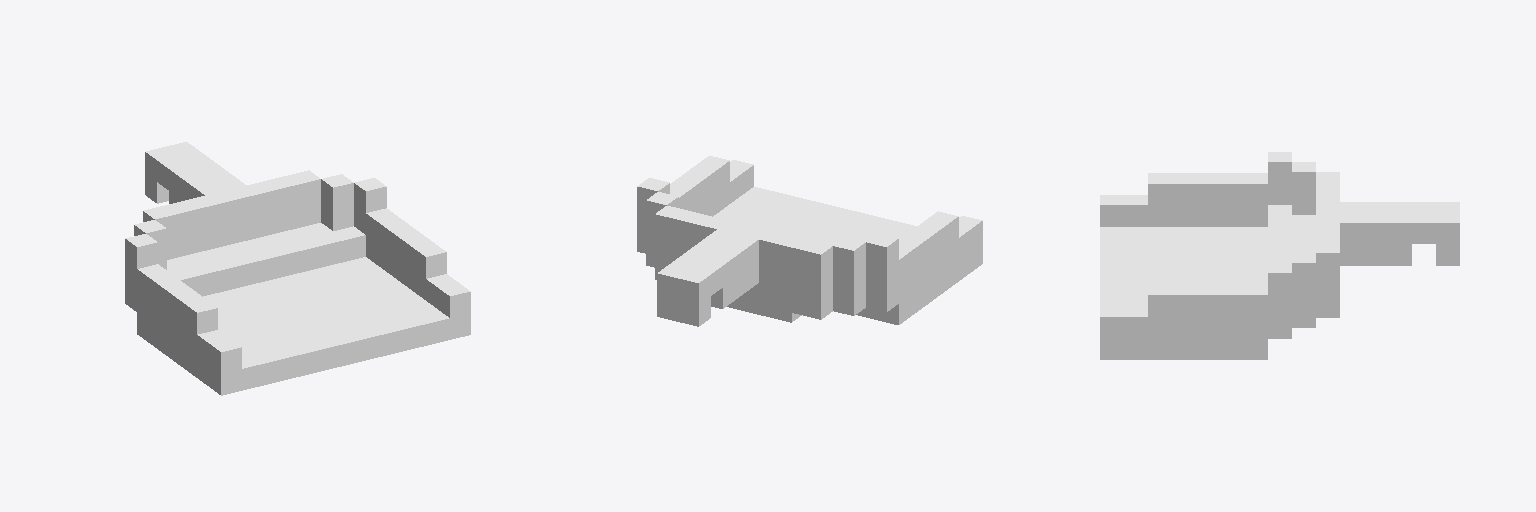
File: Dustpan.obj
3 renders of one model, left to right at view 1: azimuth 30°, elevation 25°; view 2: azimuth 150°, elevation 25°; view 3: azimuth 270°, elevation 25°, orthographic.
Visible parts, largest first — view 1: object 1; view 2: object 1; view 3: object 1.
Boxes of the visible parts, x1=… form: object 1: x1=125, y1=142, x2=470, y2=395; object 1: x1=637, y1=156, x2=982, y2=326; object 1: x1=1100, y1=152, x2=1459, y2=359.
Bounding box in the file's own units: 1.2 × 0.4 × 1.5.